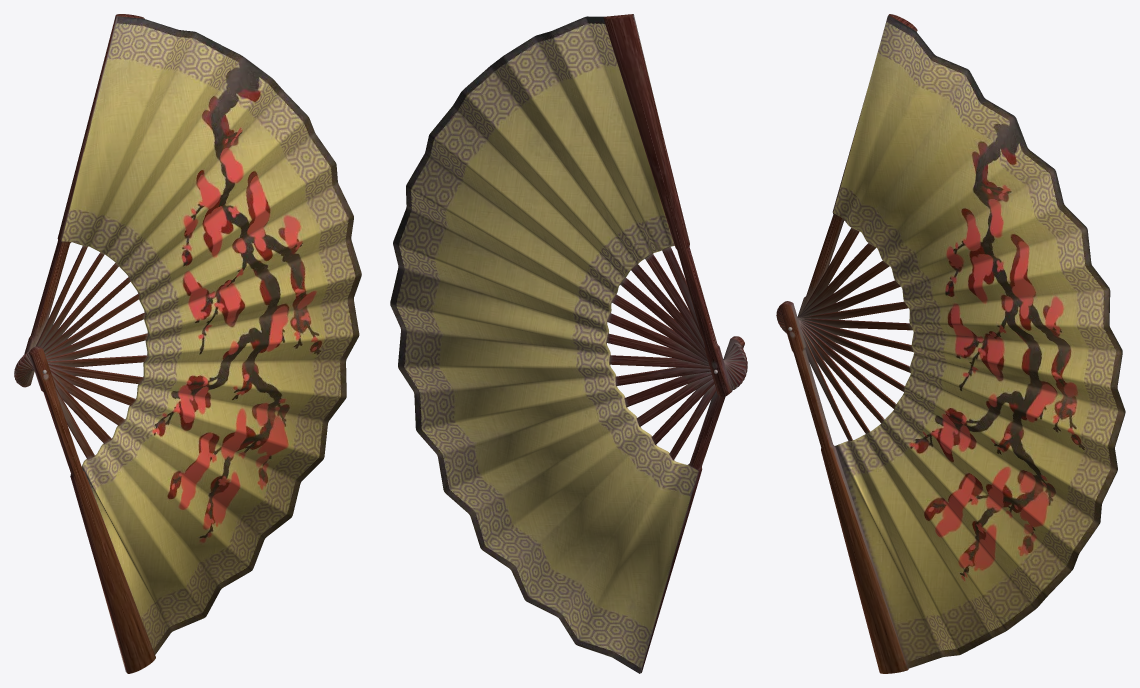
The model's file is hand-fan.glb.
3 views of the same model, side by side, from view 1: azimuth 30°, elevation 25°; view 2: azimuth 150°, elevation 25°; view 3: azimuth 330°, elevation 25° (orthographic). The views are drawn at different scales.
Visible parts, largest first — view 1: Day7_ChineseFan__0; view 2: Day7_ChineseFan__0; view 3: Day7_ChineseFan__0.
Boxes of the visible parts, x1,y1,x2,y2 form: Day7_ChineseFan__0: (14, 14, 361, 673); Day7_ChineseFan__0: (390, 14, 747, 673); Day7_ChineseFan__0: (776, 14, 1125, 673).
Size of the model in its own units: 0.1821 by 0.33 by 0.0172.
1 material, 1 textured.
